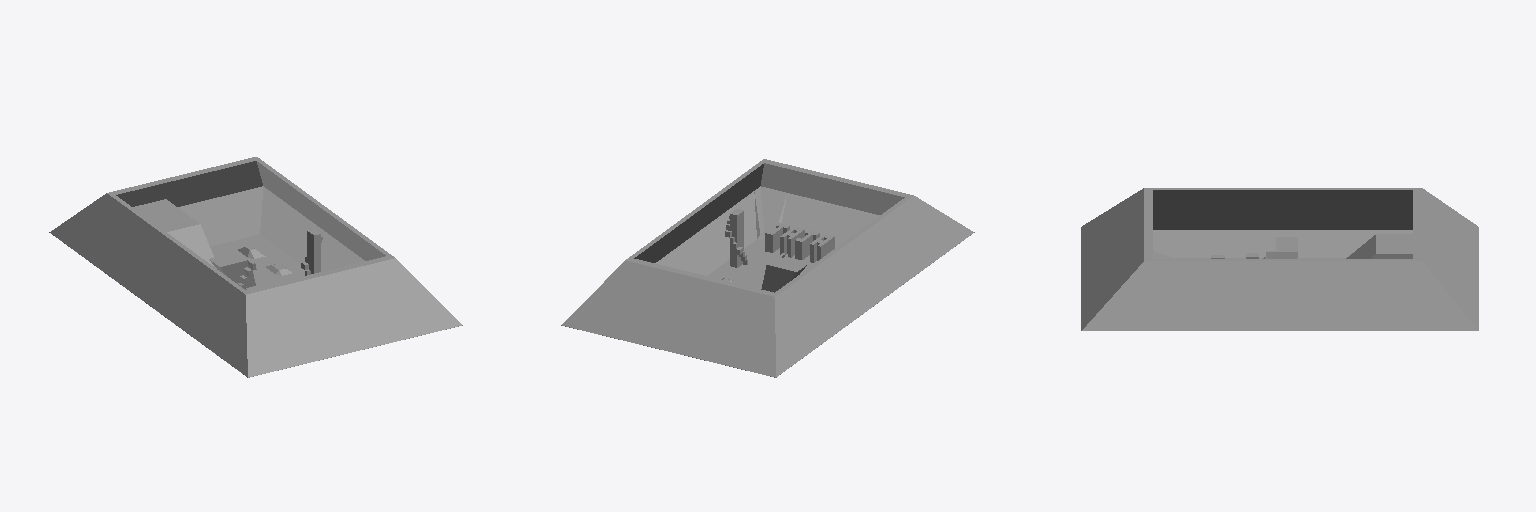
File: Terrain.obj
The picture shows the model from 3 angles: view 1: azimuth 30°, elevation 25°; view 2: azimuth 150°, elevation 25°; view 3: azimuth 270°, elevation 25°; orthographic projection.
Parts seen in each view (by area): view 1: Mesh; view 2: Mesh; view 3: Mesh.
Boxes of the visible parts, <box> form: Mesh: <box>49,157,462,377</box>; Mesh: <box>561,159,974,377</box>; Mesh: <box>1081,188,1478,330</box>.
Bounding box in the file's own units: 66.83 × 17.87 × 107.